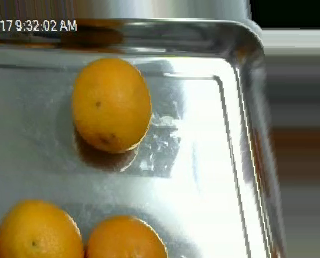Orange: (70, 57, 153, 152), (1, 200, 82, 258)
